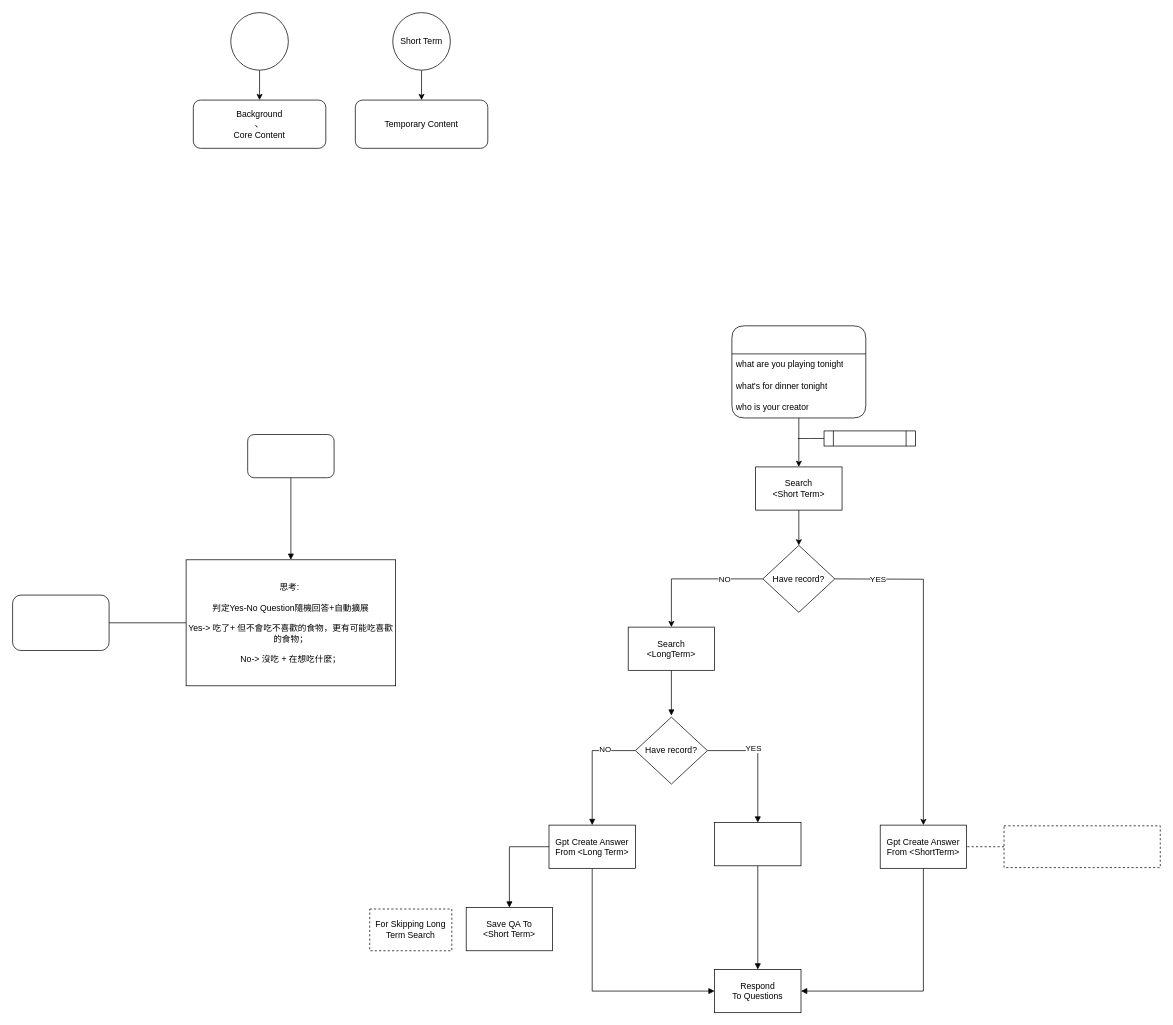
The diagram is 1173 pixels wide and 1025 high, and some of its shapes have lost their labels. The shapes that lost their labels are listed below. From the top down, each one's box as (x1, y1, x2, y2) in pixels, then its label:
(230, 12, 288, 70): Long Term
(731, 325, 866, 418): Today Streaming Content
(247, 434, 334, 478): 第一次問題: 今天吃了飯嗎
(823, 430, 915, 446): Convert To emb
(12, 594, 109, 651): 背景: 喜歡吃西瓜菠蘿、不喜歡吃肉
(714, 822, 801, 866): Gpt Create Answer with <No Idea>
(1003, 825, 1160, 868): 1. Find out all relatedness (top 5) QA 2. Combine to be one clue 3. send to gpt
